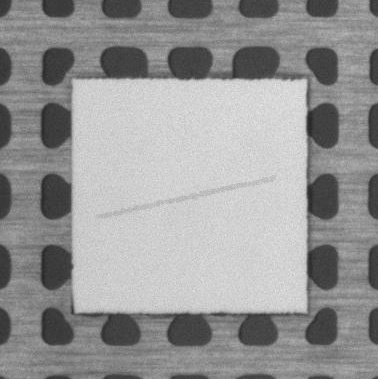DIE_CRACK: (98, 178, 274, 218)
